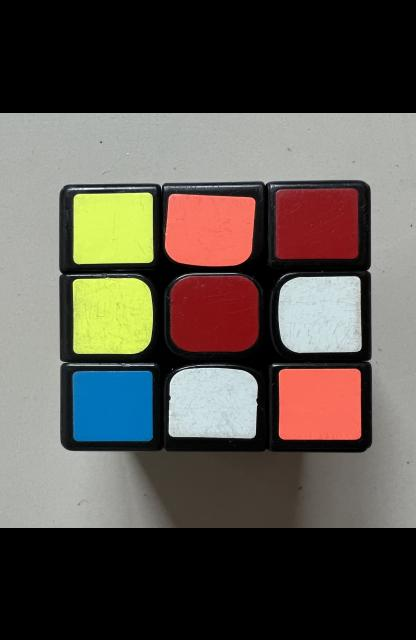Blue: (73, 370, 153, 440)
Orange: (166, 193, 256, 266), (279, 368, 362, 439)
Red: (170, 274, 259, 351), (276, 188, 359, 258)
White: (168, 367, 258, 438), (278, 276, 362, 352)
Yellow: (73, 277, 153, 354), (73, 191, 153, 264)
